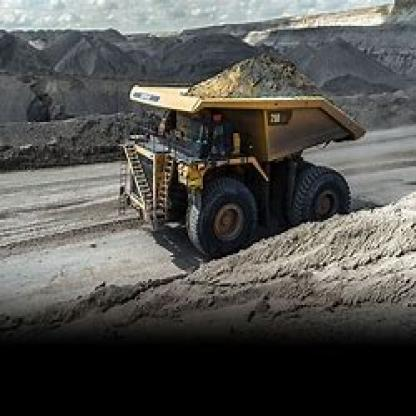dump_truck: (118, 50, 365, 238)
